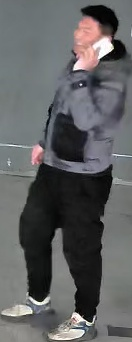phone: (64, 27, 124, 131)
